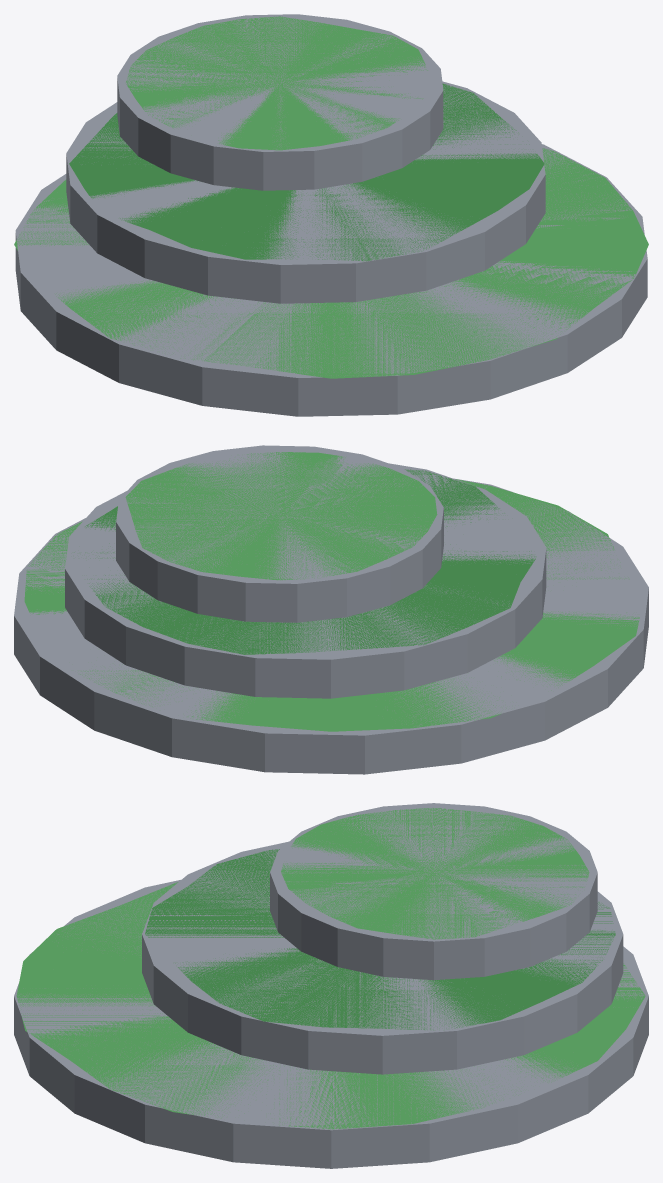
Rendered from xy_terrain_terrace.glb.
3 views of the same model, one above another, from view 1: azimuth 30°, elevation 25°; view 2: azimuth 150°, elevation 25°; view 3: azimuth 270°, elevation 25° (orthographic).
Parts seen in each view (by area): view 1: Terrace; view 2: Terrace; view 3: Terrace.
Boxes of the visible parts, bbox=[...] form: Terrace: bbox=[14, 14, 648, 416]; Terrace: bbox=[14, 445, 648, 774]; Terrace: bbox=[14, 803, 648, 1168].
Size of the model in its own units: 7.44 by 2.1 by 7.44.
